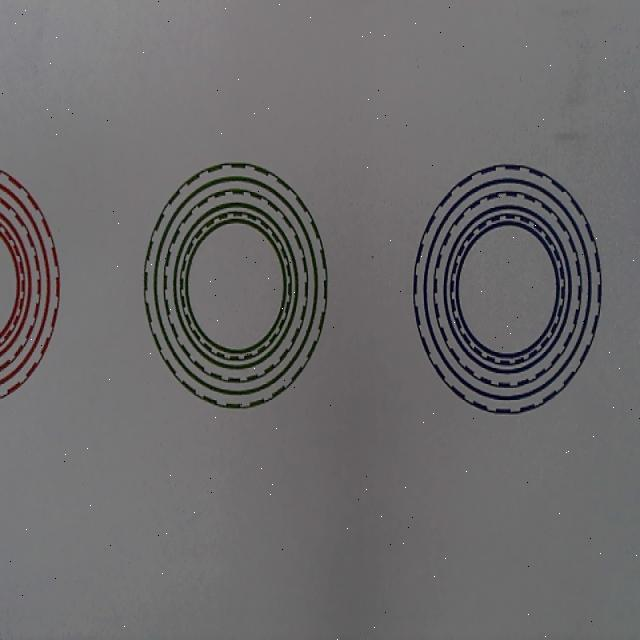b: (412, 162, 602, 416)
g: (142, 161, 328, 410)
